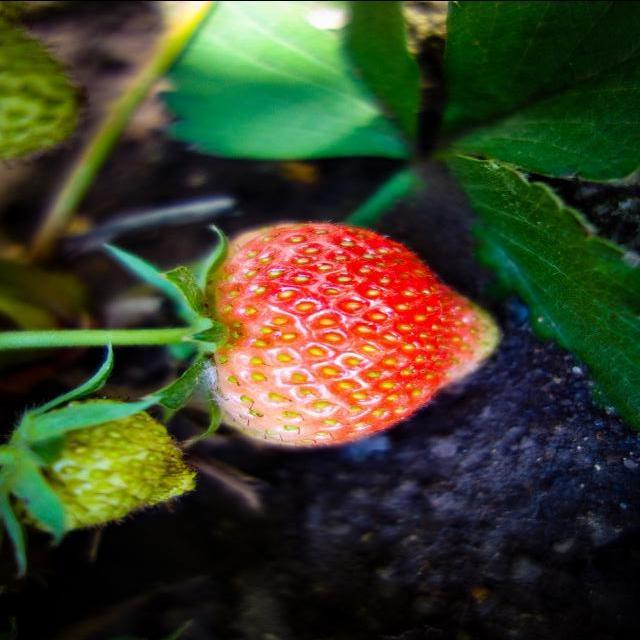strawberry: (202, 223, 498, 445), (16, 398, 190, 529)
